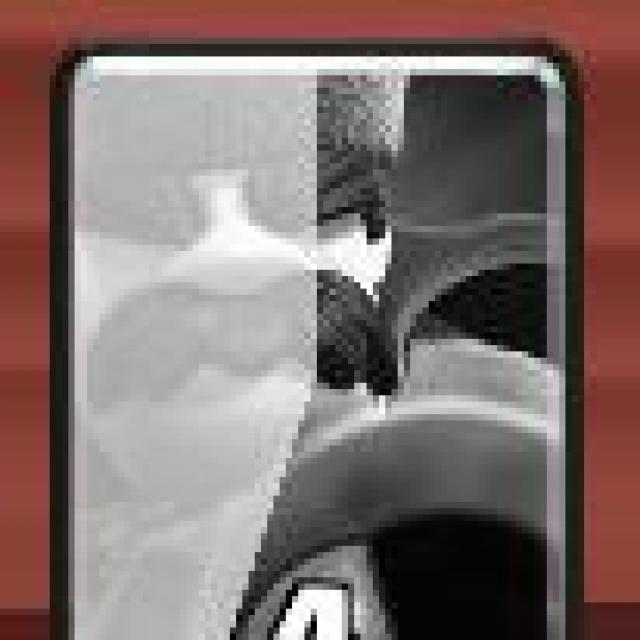Hunter: (44, 38, 582, 640)
